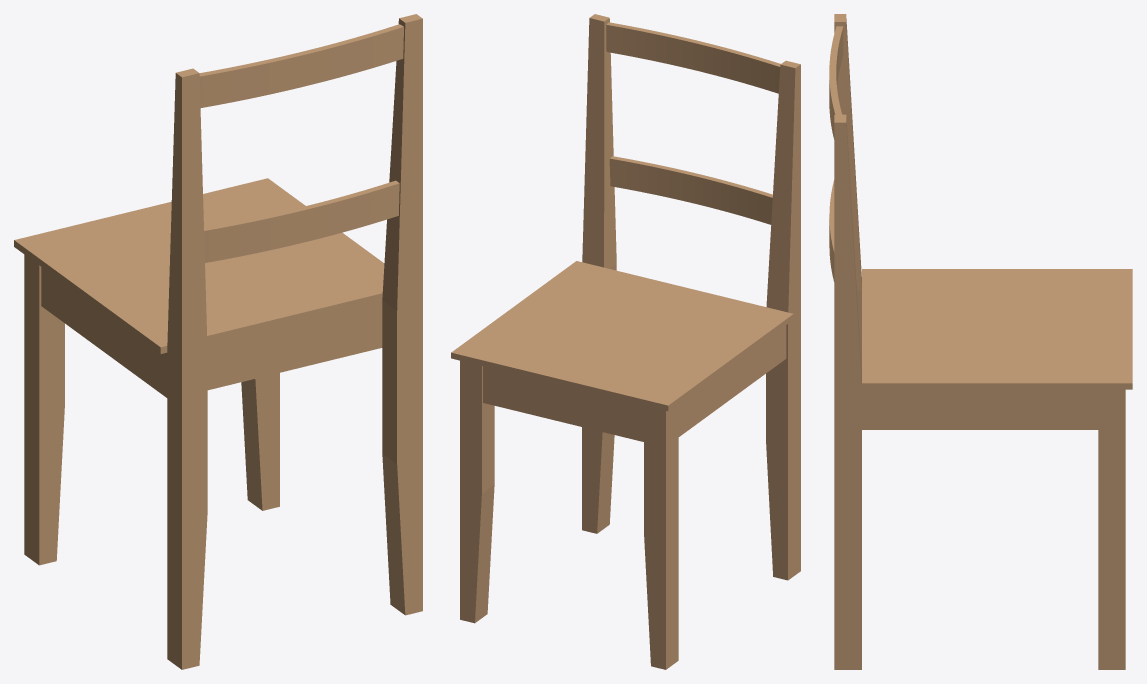
3 renders of one model, left to right at view 1: azimuth 30°, elevation 25°; view 2: azimuth 150°, elevation 25°; view 3: azimuth 270°, elevation 25°, orthographic. The views are drawn at different scales.
Parts seen in each view (by area): view 1: group_3_ID20, group_9_ID62, group_11_ID76, group_2_ID13, group_1_ID4, group_5_ID34, group_6_ID41, group_8_ID55, group_7_ID48; view 2: group_3_ID20, group_9_ID62, group_11_ID76, group_2_ID13, group_7_ID48, group_10_ID69, group_5_ID34, group_6_ID41, group_8_ID55; view 3: group_3_ID20, group_11_ID76, group_4_ID27, group_7_ID48, group_9_ID62, group_5_ID34, group_6_ID41.
Boxes of the visible parts, left/top/right/bottom form: group_3_ID20: left=14, top=178, right=384, bottom=353; group_9_ID62: left=167, top=68, right=207, bottom=669; group_11_ID76: left=382, top=14, right=422, bottom=615; group_2_ID13: left=24, top=254, right=64, bottom=565; group_1_ID4: left=207, top=300, right=382, bottom=390; group_5_ID34: left=199, top=24, right=403, bottom=107; group_6_ID41: left=204, top=180, right=399, bottom=262; group_8_ID55: left=41, top=267, right=167, bottom=397; group_7_ID48: left=241, top=373, right=279, bottom=510; group_3_ID20: left=451, top=261, right=793, bottom=411; group_9_ID62: left=766, top=60, right=800, bottom=580; group_11_ID76: left=582, top=14, right=616, bottom=533; group_2_ID13: left=644, top=404, right=678, bottom=669; group_7_ID48: left=460, top=360, right=494, bottom=623; group_10_ID69: left=483, top=366, right=643, bottom=441; group_5_ID34: left=606, top=22, right=780, bottom=93; group_6_ID41: left=609, top=156, right=772, bottom=224; group_8_ID55: left=678, top=325, right=786, bottom=436; group_3_ID20: left=862, top=269, right=1132, bottom=389; group_11_ID76: left=834, top=114, right=861, bottom=669; group_4_ID27: left=862, top=389, right=1098, bottom=429; group_7_ID48: left=1098, top=389, right=1125, bottom=669; group_9_ID62: left=834, top=14, right=861, bottom=373; group_5_ID34: left=829, top=26, right=843, bottom=139; group_6_ID41: left=829, top=180, right=834, bottom=281.
Bounding box in the file's own units: 0.3719 × 0.8295 × 0.4166.
